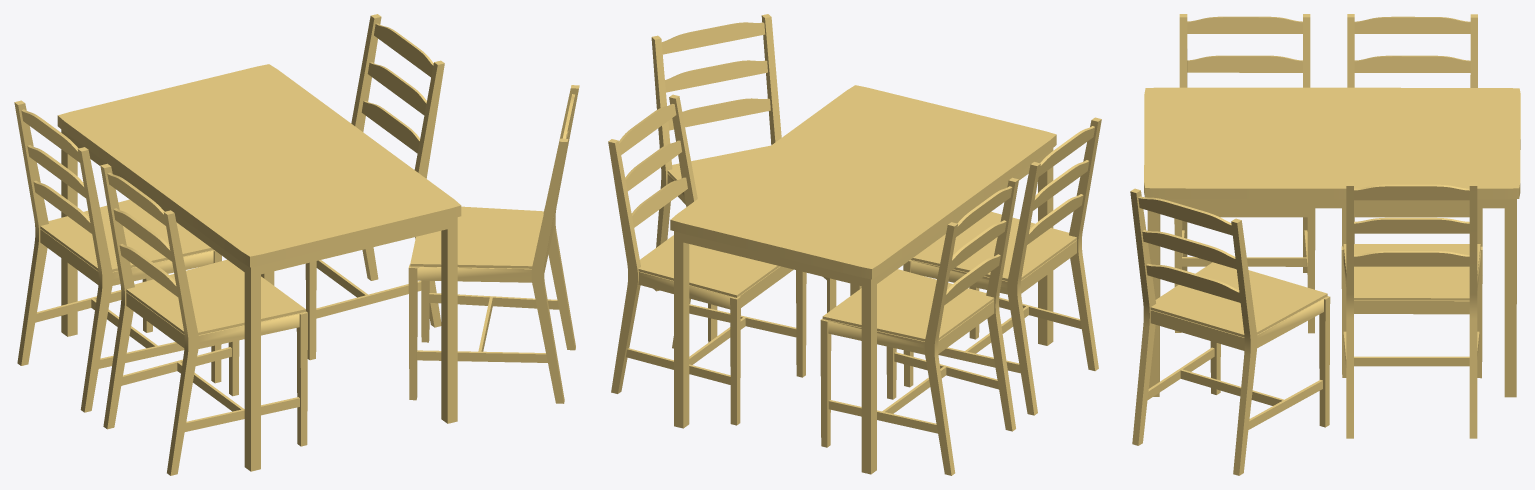
File: IKEA-Jokkmokk_Table_And_4_Chairs-3D.obj
3 renders of one model, left to right at view 1: azimuth 30°, elevation 25°; view 2: azimuth 150°, elevation 25°; view 3: azimuth 270°, elevation 25°, orthographic. The views are drawn at different scales.
Parts seen in each view (by area): view 1: Box03, Box08, Box09, Box07, Box06; view 2: Box03, Box09, Box06, Box08, Box07; view 3: Box03, Box07, Box06, Box08, Box09.
Boxes of the visible parts, x1,y1,x2,y2 form: Box03: (57,64,461,471); Box08: (100,163,307,475); Box09: (14,100,221,412); Box07: (408,85,579,403); Box06: (305,14,444,360); Box03: (670,85,1056,474); Box09: (820,177,1018,475); Box06: (608,94,806,425); Box08: (903,117,1101,415); Box07: (651,14,836,342); Box03: (1144,87,1520,397); Box07: (1130,188,1330,475); Box06: (1341,182,1482,438); Box08: (1174,14,1315,333); Box09: (1342,14,1482,283).
Bounding box in the file's own units: 158 × 89.67 × 125.
